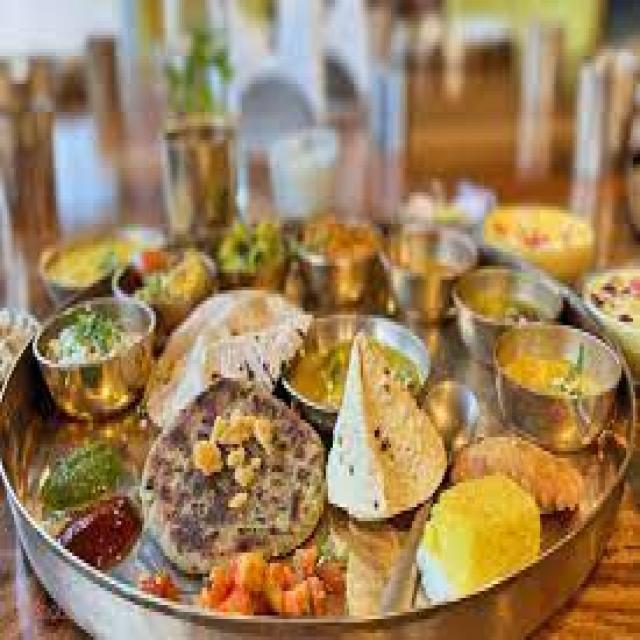dal: (493, 319, 617, 416), (487, 189, 600, 279)
papad: (328, 325, 432, 535)
rice: (158, 369, 333, 590), (34, 294, 152, 403)
roti: (326, 336, 436, 520)
